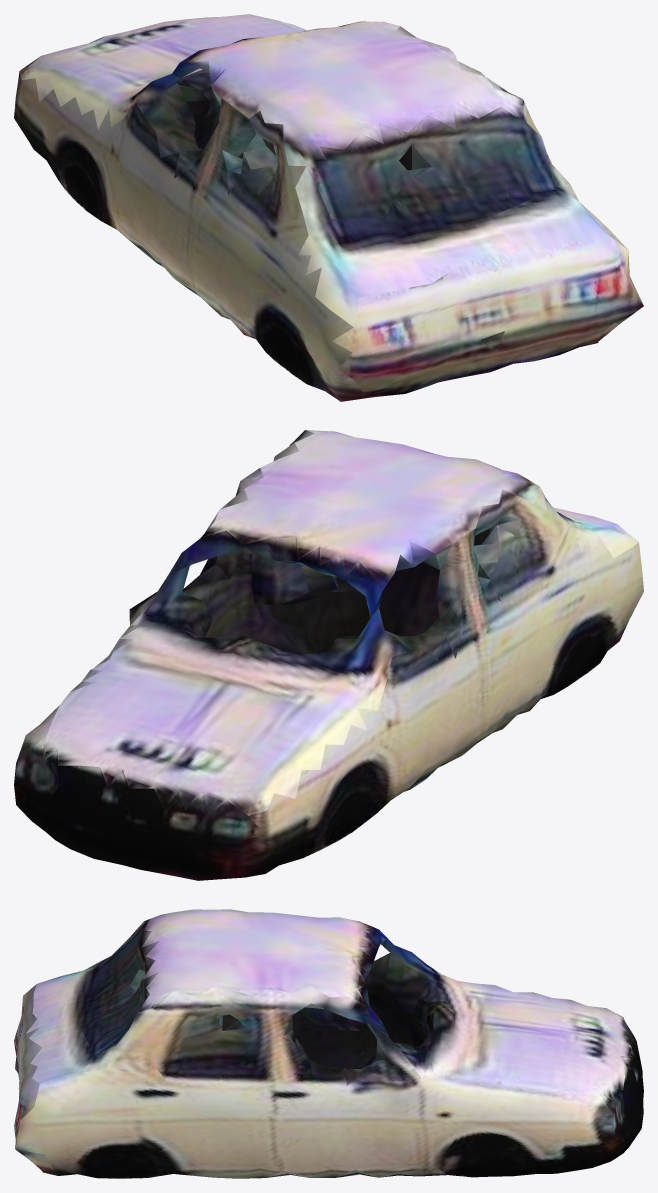
The model's file is dacia-1c.glb.
The picture shows the model from 3 angles, top to bottom: view 1: azimuth 30°, elevation 25°; view 2: azimuth 150°, elevation 25°; view 3: azimuth 270°, elevation 25°; orthographic projection. The views are drawn at different scales.
Visible parts, largest first — view 1: geometry_0; view 2: geometry_0; view 3: geometry_0.
Boxes of the visible parts, box(x1,y1,x2,y2) form: geometry_0: box(14, 14, 643, 401); geometry_0: box(14, 430, 643, 880); geometry_0: box(14, 909, 643, 1178).
Bounding box in the file's own units: 1.91 × 1.29 × 4.19.
1 material, 1 textured.
